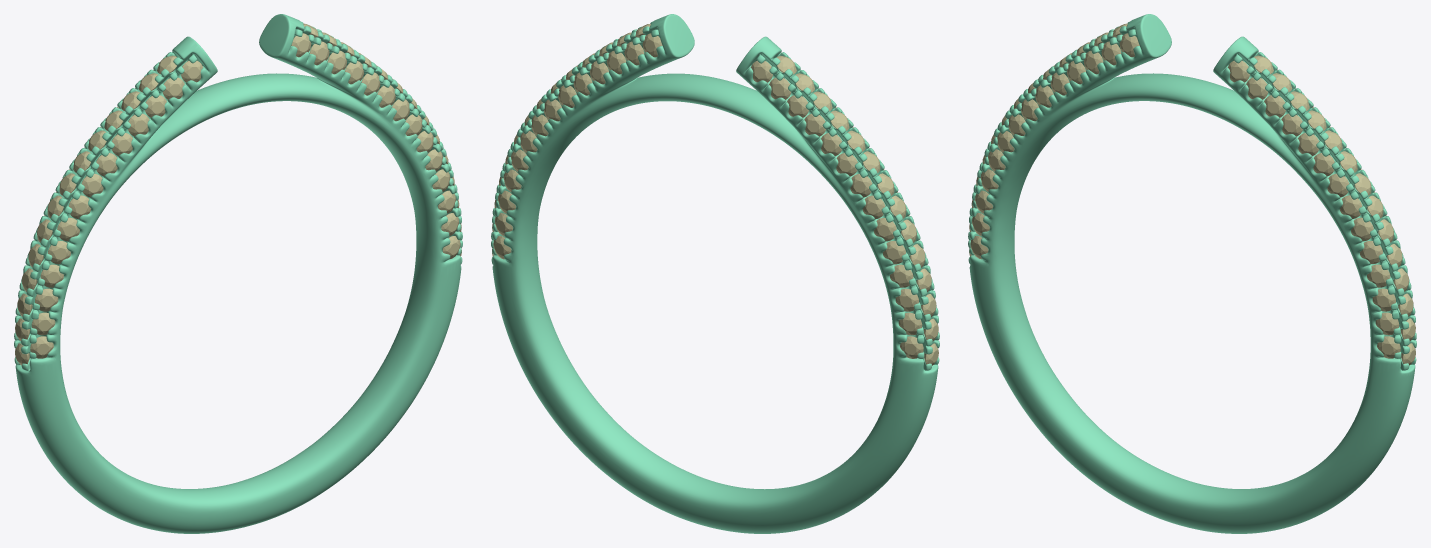
The picture shows the model from 3 angles, left to right: view 1: azimuth 30°, elevation 25°; view 2: azimuth 150°, elevation 25°; view 3: azimuth 330°, elevation 25°; orthographic projection.
Parts seen in each view (by area): view 1: Metal02; view 2: Metal02; view 3: Metal02.
Part boxes in pixels (x1,y1,x2,y2): Metal02: (14,14,462,533); Metal02: (491,14,939,533); Metal02: (968,14,1416,533).
Bounding box in the file's own units: 20.84 × 22.54 × 1.86.
